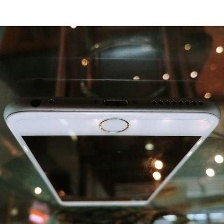phone: (2, 91, 224, 210)
